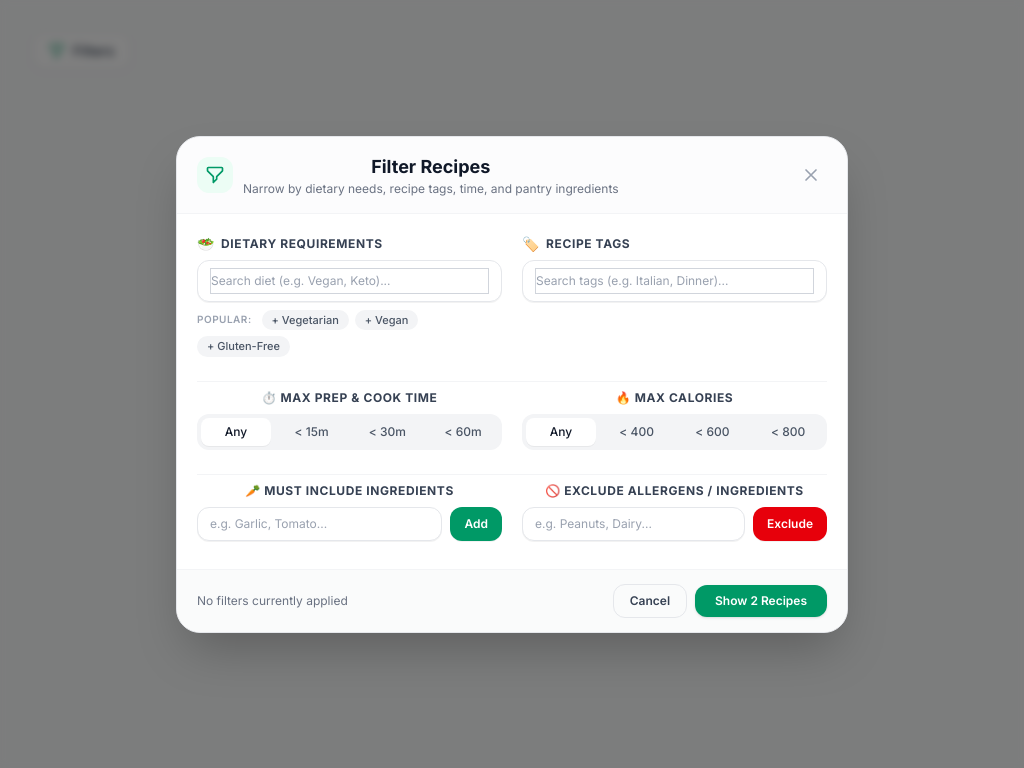
it: RecipeFilterDrawer › calculates live matching count from allRecipes dynamically against draft filters
This screenshot has width=1024, height=768.
Check: the button "Show 2 Recipes" is shown, box top-left (695, 584), bottom-right (827, 616)
Step 1. Type "Garlic" into the field with placeholder "e.g. Garlic, Tomato..." → (320, 524), box top-left (197, 506), bottom-right (442, 540)
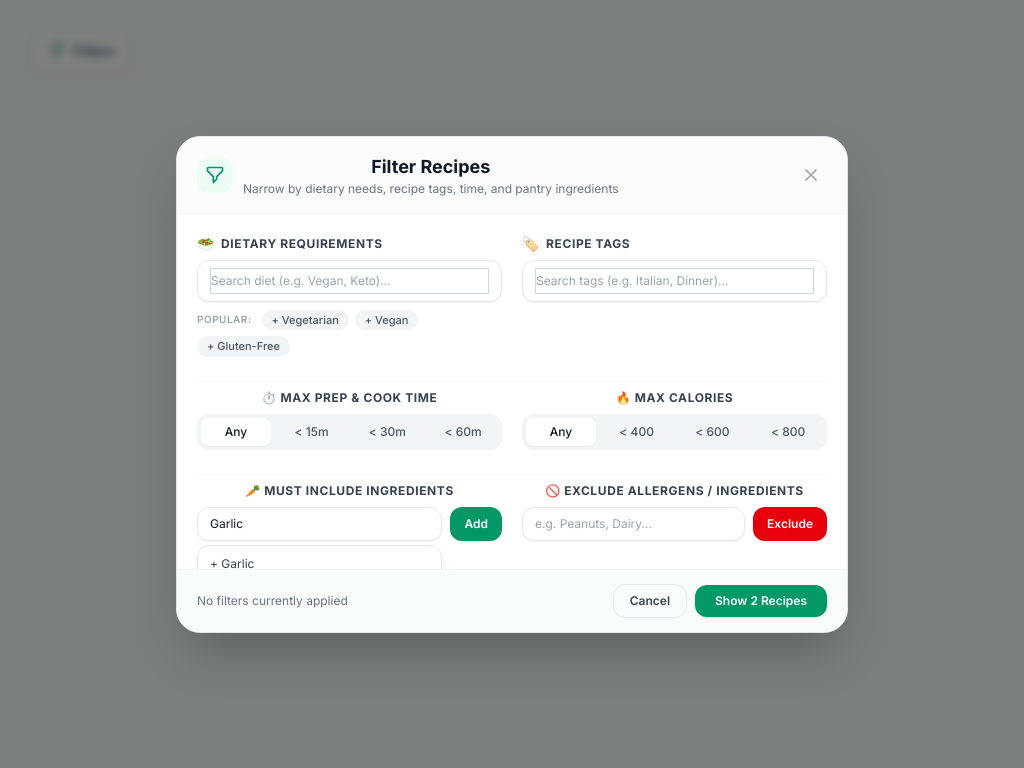
Step 2. Click the button "Add" → (476, 524), box top-left (450, 506), bottom-right (502, 540)
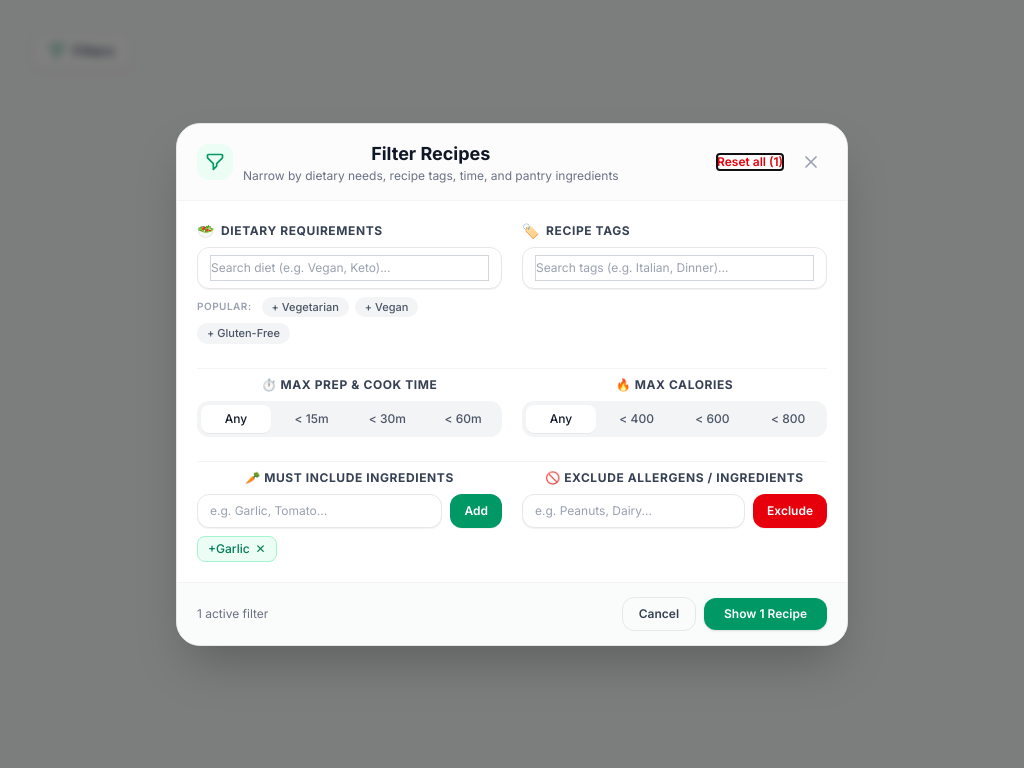
Check: the button "Show 1 Recipe" is shown, box top-left (704, 598), bottom-right (827, 630)
